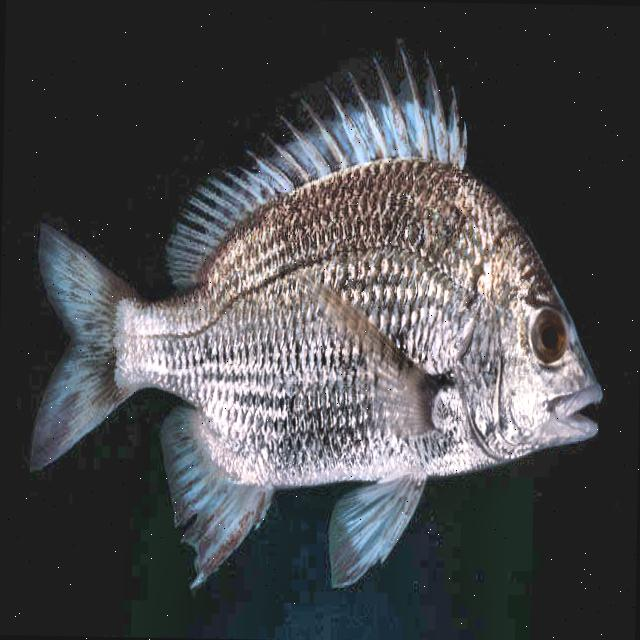fish: (26, 33, 610, 596)
